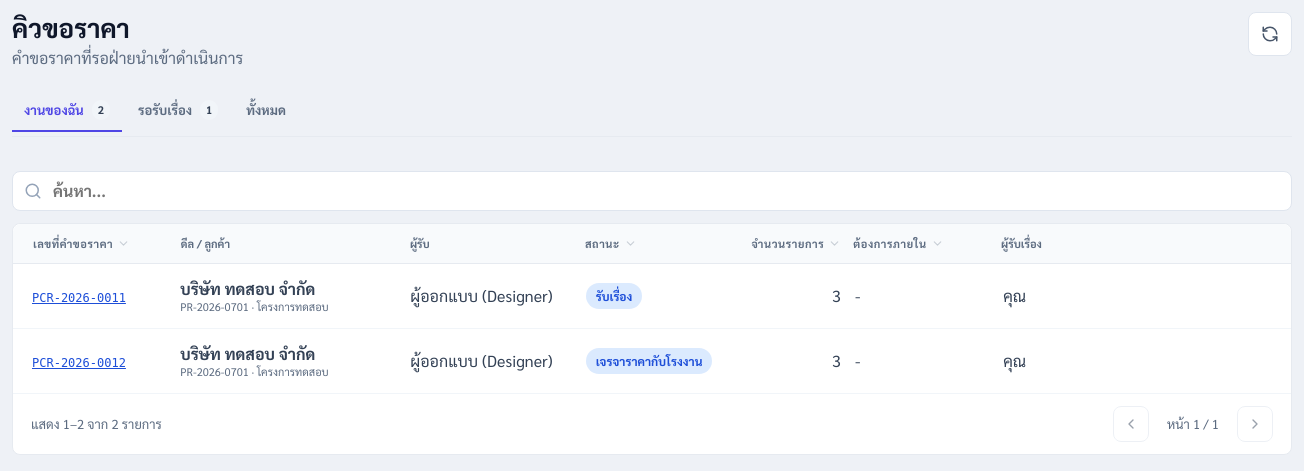
PricingRequestQueuePage › import role — task tabs (GLA-110) › shows the งานของฉัน badge count and keeps showing it while another tab is active
This screenshot has width=1304, height=471.
Expected: the text "PCR-2026-0011" is shown, x1=32 y1=291 x2=126 y2=305
Expected: the text "2" is shown, x1=92 y1=100 x2=110 y2=120
Step 1. Click the tab "รอรับเรื่อง 1" → coordinates (178, 111), box x1=126 y1=90 x2=230 y2=132
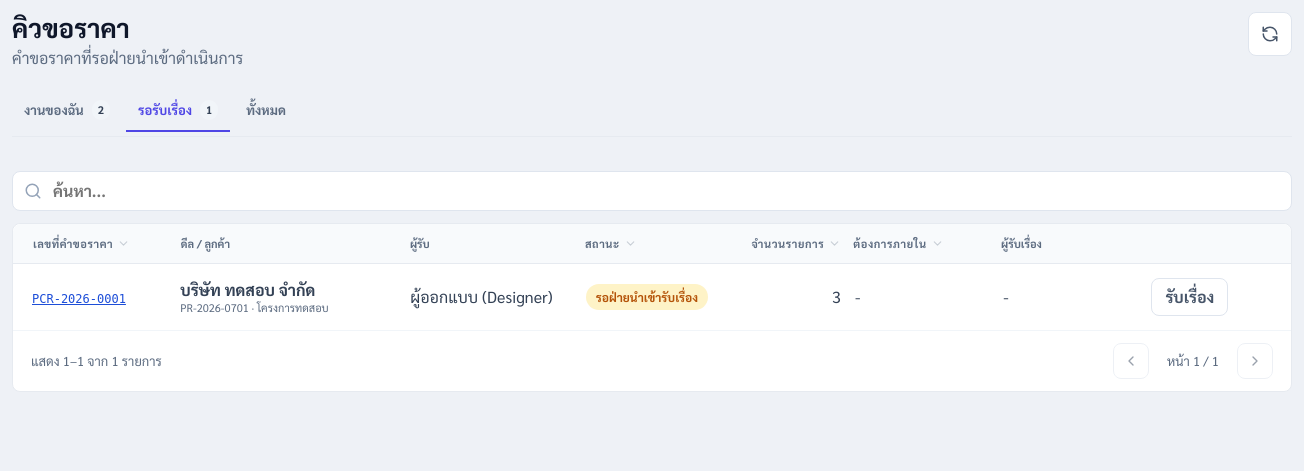
Expected: the text "2" is shown, x1=92 y1=100 x2=110 y2=120
Now the text "PCR-2026-0001" is shown, box x1=32 y1=292 x2=126 y2=306
